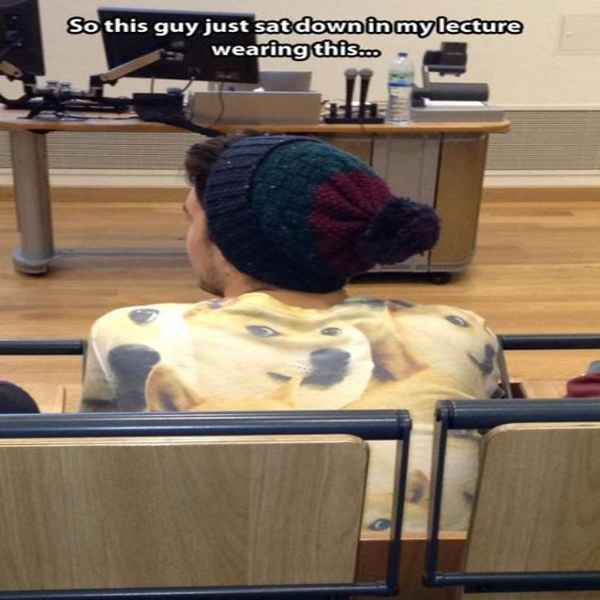doge: (213, 308, 371, 413), (402, 301, 507, 390), (84, 301, 166, 399)
